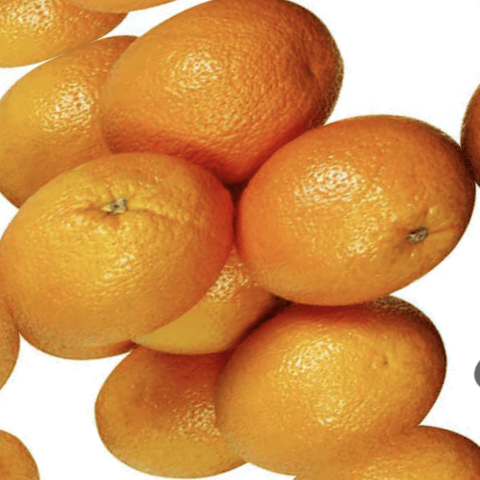orange: (58, 0, 380, 238), (205, 79, 480, 353), (0, 109, 257, 385), (175, 269, 466, 480)
